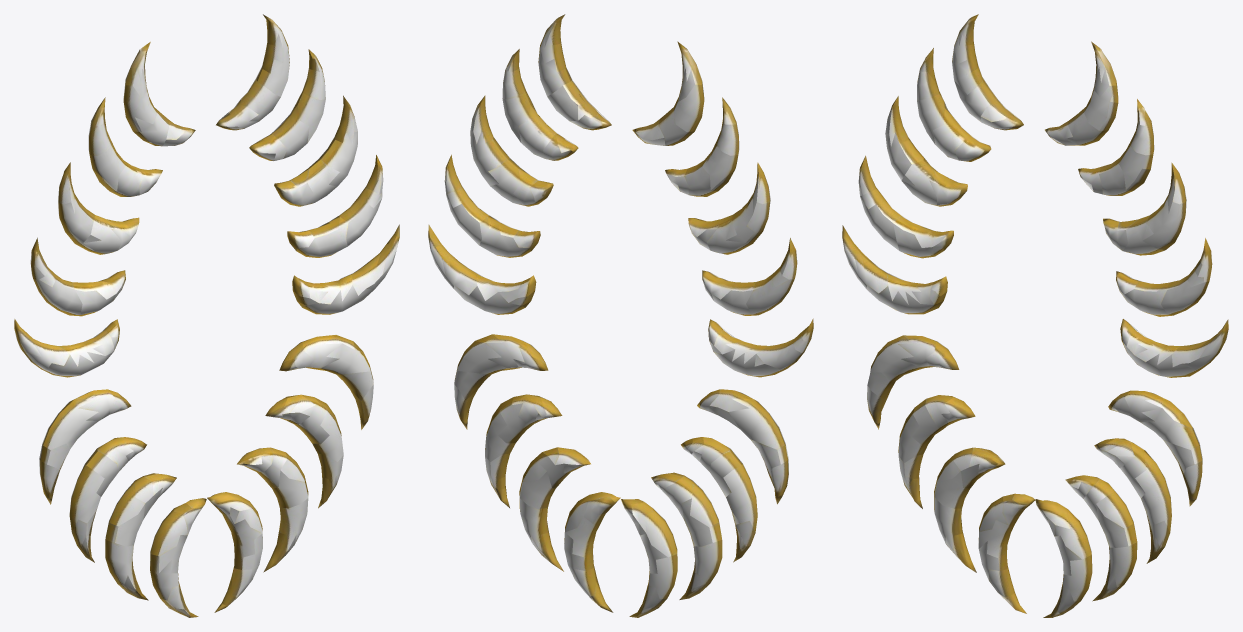
Rendered from aegis-barrier.glb.
The picture shows the model from 3 angles, left to right: view 1: azimuth 30°, elevation 25°; view 2: azimuth 150°, elevation 25°; view 3: azimuth 330°, elevation 25°; orthographic projection.
Size of the model in its own units: 0.6855 by 1 by 0.0464.
1 material, 1 textured.
